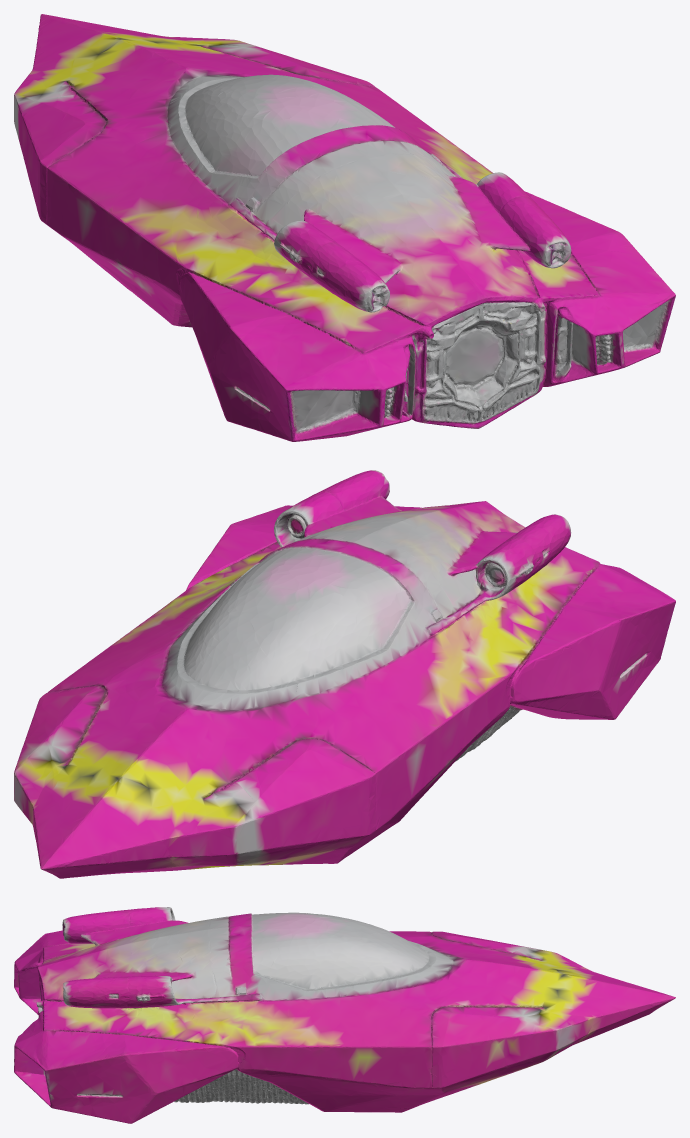
File: pixie_xl.glb
3 views of the same model, one above another, from view 1: azimuth 30°, elevation 25°; view 2: azimuth 150°, elevation 25°; view 3: azimuth 270°, elevation 25° (orthographic). The views are drawn at different scales.
Parts seen in each view (by area): view 1: geometry_0; view 2: geometry_0; view 3: geometry_0.
Boxes of the visible parts, x1,y1,x2,y2 form: geometry_0: (14, 14, 675, 441); geometry_0: (14, 470, 675, 878); geometry_0: (14, 907, 675, 1123).
Bounding box in the file's own units: 3.72 × 1.99 × 7.6.
